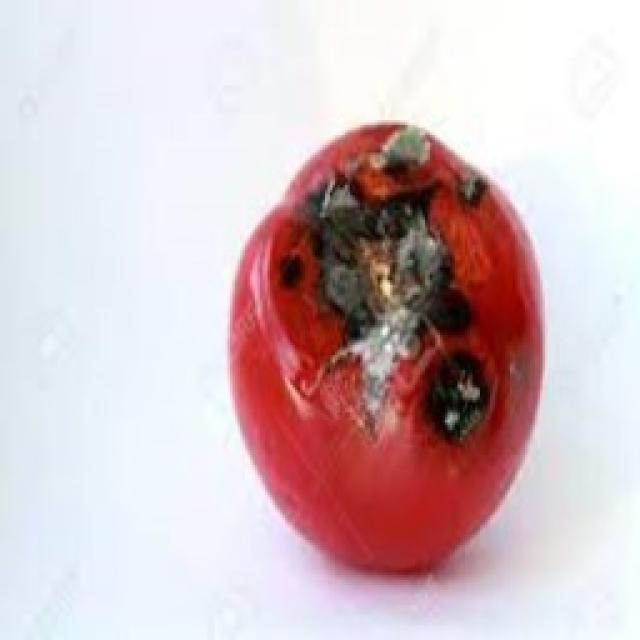tomato: (191, 110, 596, 568)
